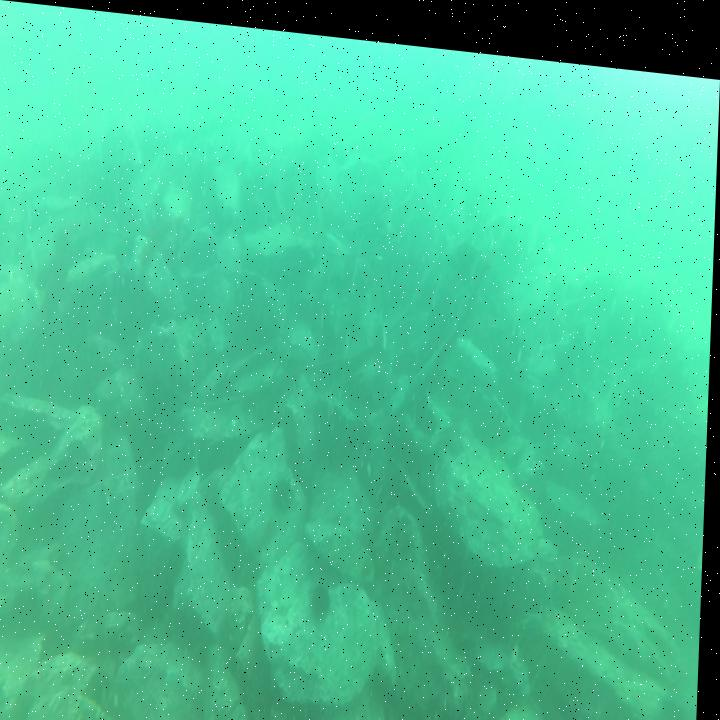echinus: (662, 671, 696, 720), (275, 465, 300, 509), (313, 570, 337, 612)
